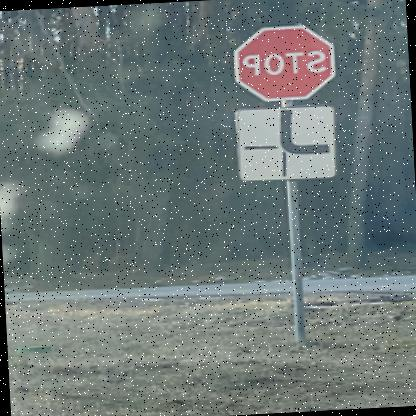stop: (233, 22, 338, 101)
